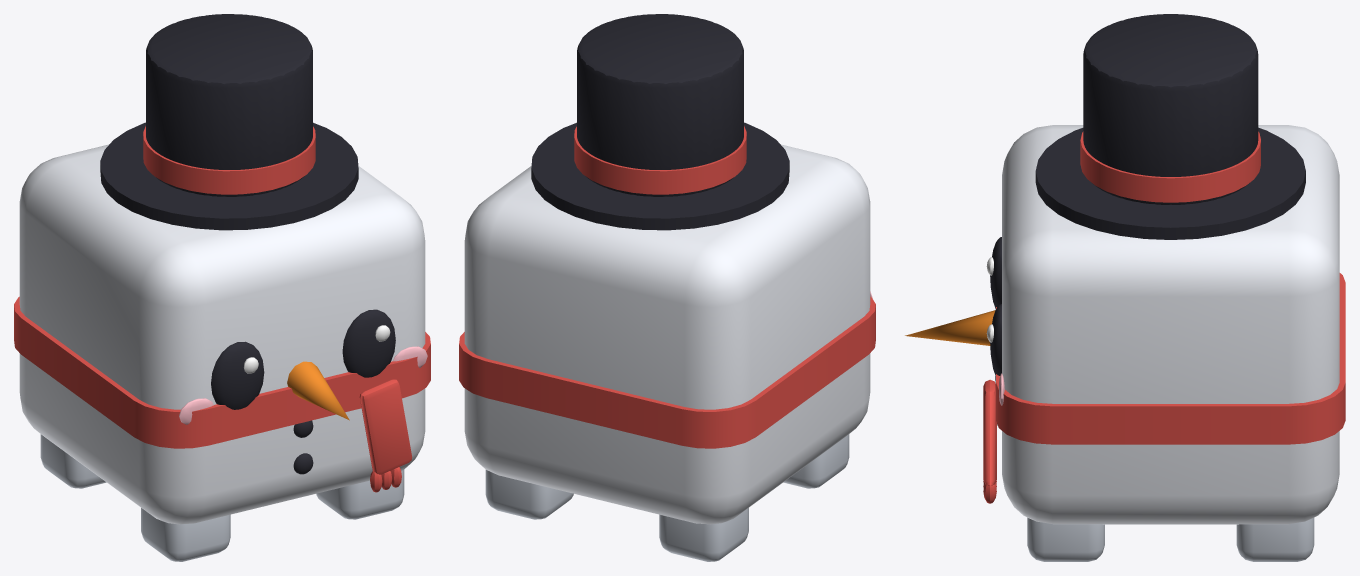
File: Snowman.glb
3 views of the same model, side by side, from view 1: azimuth 30°, elevation 25°; view 2: azimuth 150°, elevation 25°; view 3: azimuth 270°, elevation 25° (orthographic). The views are drawn at different scales.
Visible parts, largest first — view 1: Snowman; view 2: Snowman; view 3: Snowman.
Part boxes in pixels (box(x1,y1,x2,y2)): Snowman: box(14, 14, 430, 561); Snowman: box(459, 14, 875, 561); Snowman: box(905, 14, 1345, 561).
Size of the model in its own units: 2.07 by 3.02 by 2.61.
Materials: 1 (1 with a texture image).
